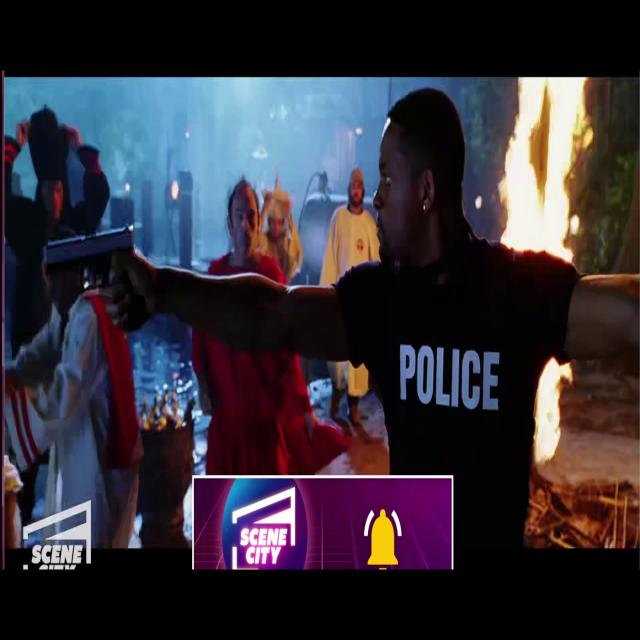weapons: (34, 202, 148, 344)
